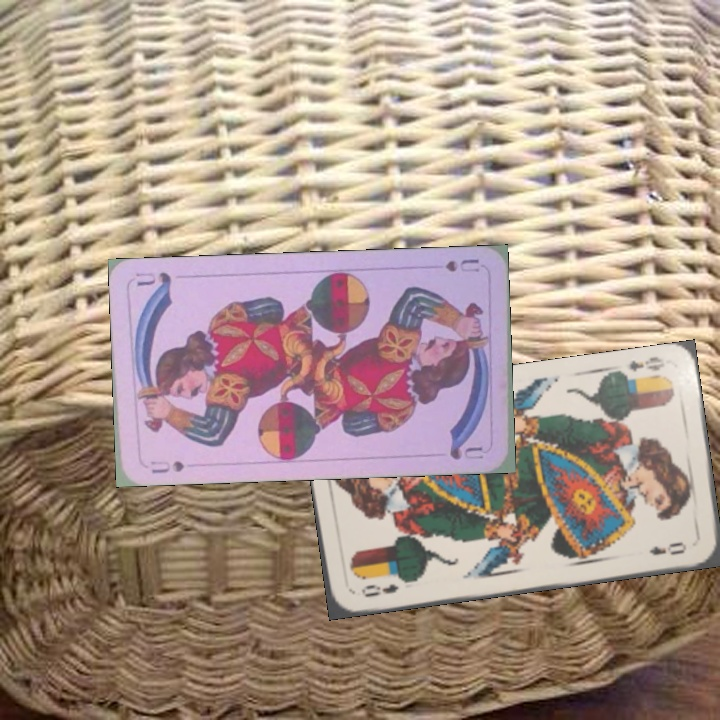EO: (625, 352, 667, 374), (357, 580, 401, 600)
SU: (441, 254, 482, 275), (147, 456, 187, 476)
